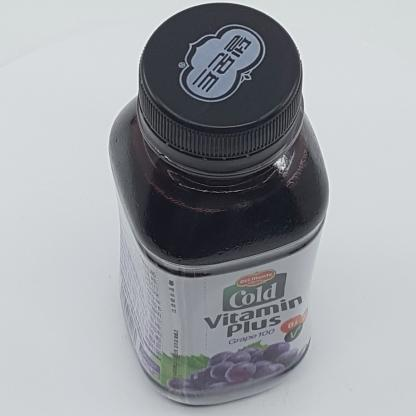---------------240ML: (108, 2, 329, 406)
